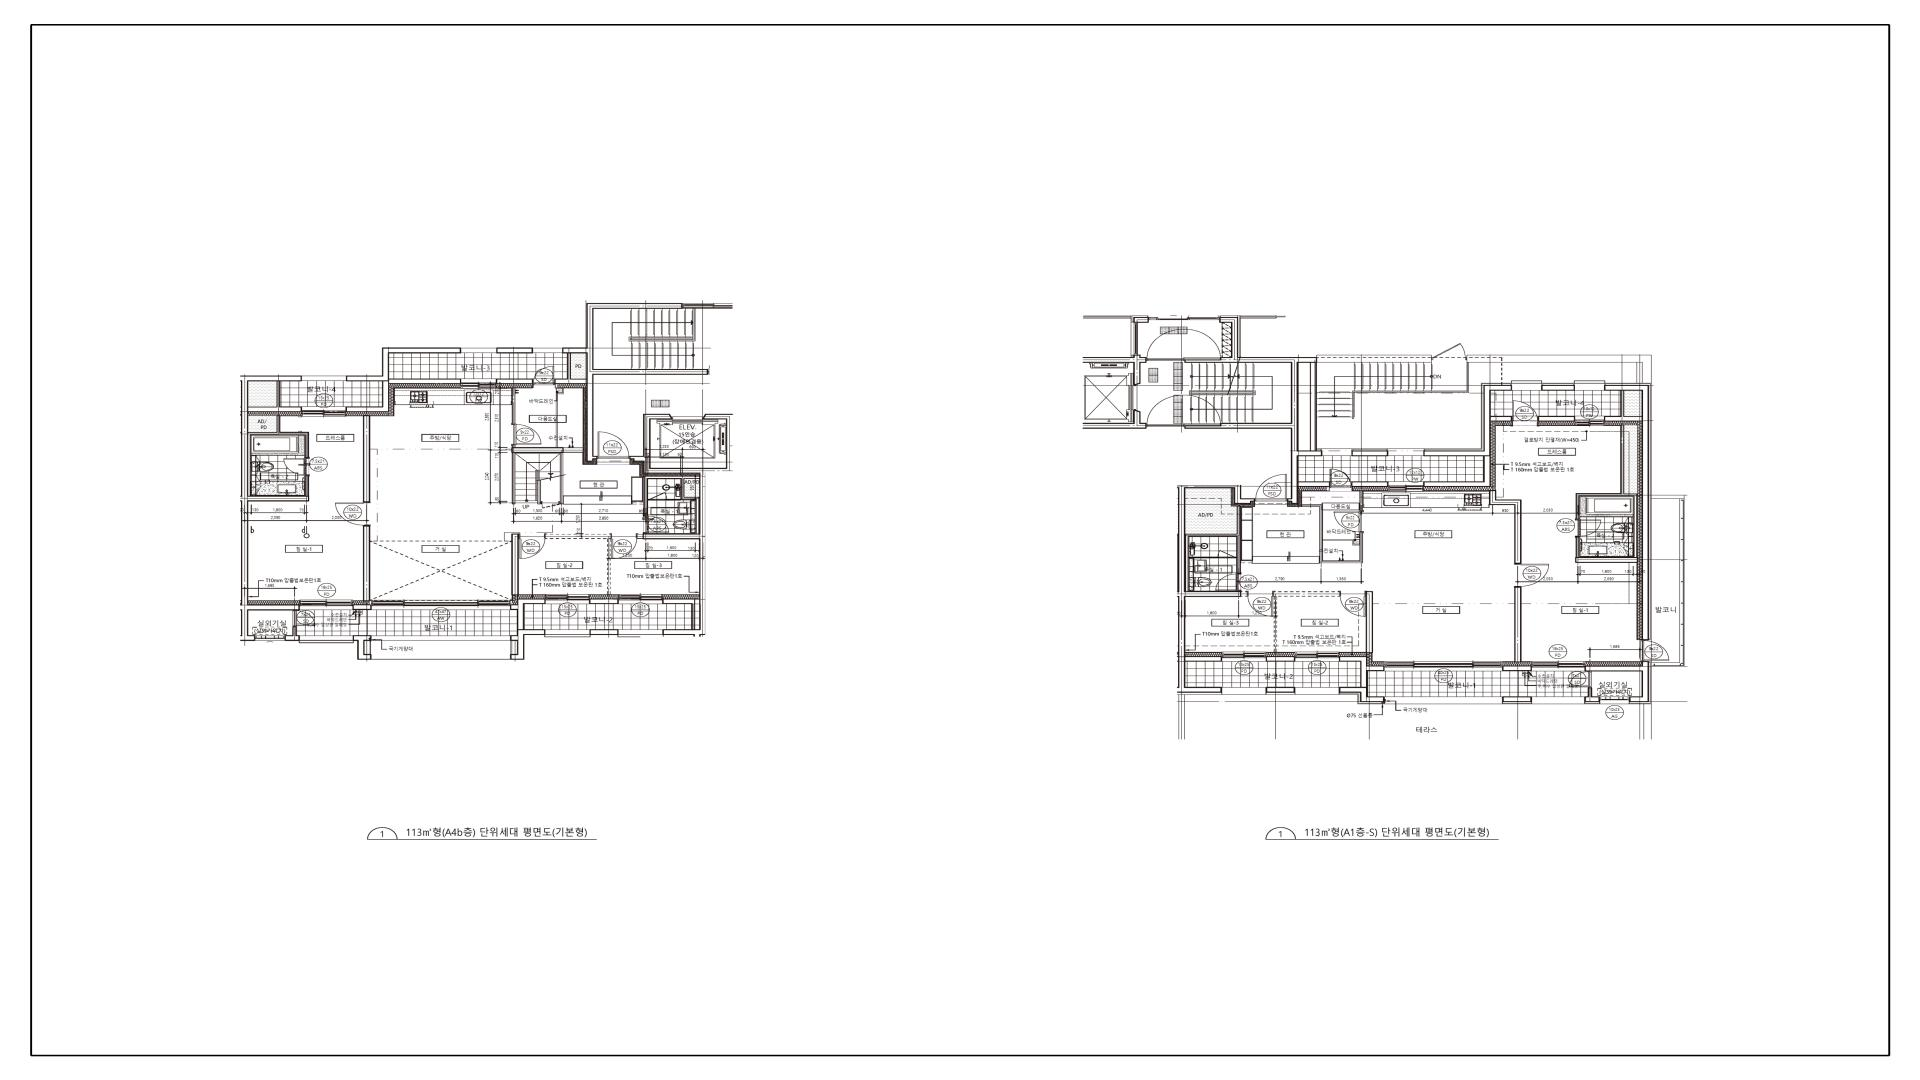door: (1146, 328, 1184, 361), (1147, 396, 1185, 427), (597, 431, 630, 465), (1514, 563, 1549, 588), (1255, 473, 1287, 501), (335, 502, 371, 526), (1247, 591, 1274, 617), (1340, 591, 1366, 617), (611, 534, 637, 559), (520, 534, 546, 559), (1513, 401, 1539, 426), (1640, 640, 1669, 662), (1333, 512, 1364, 533), (512, 425, 542, 444), (1432, 343, 1466, 360), (1575, 518, 1601, 538), (1216, 572, 1242, 591), (644, 516, 670, 534), (284, 458, 310, 475), (1329, 468, 1352, 488), (533, 367, 554, 385), (1569, 671, 1592, 688), (293, 611, 315, 626), (650, 492, 667, 501), (1217, 550, 1237, 558)
wall: (1184, 316, 1432, 504), (562, 303, 708, 462), (630, 414, 733, 636), (241, 376, 309, 641), (1178, 485, 1255, 692), (1605, 385, 1650, 641), (1576, 425, 1638, 563), (1423, 385, 1511, 456), (1651, 495, 1684, 667), (1466, 355, 1652, 384), (248, 415, 309, 496), (1185, 506, 1241, 591), (512, 444, 583, 505), (1274, 592, 1340, 653), (345, 378, 462, 413), (546, 534, 611, 595), (345, 348, 462, 381), (1302, 504, 1364, 563), (644, 476, 699, 534), (1585, 662, 1650, 703), (1489, 491, 1522, 563), (1424, 456, 1491, 487), (1083, 355, 1146, 385), (248, 381, 302, 413), (1340, 657, 1385, 687), (1083, 410, 1147, 429), (1605, 390, 1642, 422), (663, 599, 699, 629), (510, 599, 546, 629), (510, 629, 546, 659), (555, 353, 587, 384), (1338, 687, 1385, 703), (1309, 363, 1317, 451), (363, 415, 371, 502), (363, 526, 371, 601), (1514, 588, 1522, 662), (352, 636, 372, 659), (512, 534, 518, 596), (1366, 591, 1373, 653), (1352, 481, 1389, 488), (496, 347, 533, 353), (1539, 415, 1575, 422), (1585, 687, 1600, 703), (285, 626, 299, 641), (1502, 696, 1532, 703), (1185, 657, 1222, 662), (496, 378, 533, 384), (1352, 451, 1389, 456), (1083, 315, 1131, 319), (589, 629, 618, 636), (1542, 385, 1575, 390), (1298, 481, 1329, 487), (1502, 666, 1532, 671), (1266, 657, 1295, 662), (589, 599, 618, 604), (1266, 687, 1295, 692), (1490, 415, 1513, 422), (512, 388, 516, 425), (1241, 315, 1276, 319), (352, 605, 372, 611), (1133, 316, 1149, 323), (1360, 491, 1364, 512), (305, 475, 309, 496), (637, 534, 642, 539)
window: (372, 600, 510, 611), (1385, 662, 1503, 671), (1385, 696, 1502, 704), (372, 636, 510, 641), (299, 600, 352, 611), (1532, 662, 1585, 671), (1221, 651, 1266, 662), (1295, 651, 1340, 662), (302, 406, 345, 417), (299, 636, 353, 644), (1532, 696, 1585, 704), (618, 595, 663, 604), (546, 595, 589, 604), (1387, 481, 1424, 492), (462, 378, 496, 389), (1222, 687, 1266, 695), (1295, 687, 1338, 695), (1575, 415, 1605, 426), (1511, 381, 1543, 390), (618, 630, 662, 637), (546, 630, 589, 637), (1389, 448, 1424, 456), (1575, 381, 1605, 390), (683, 303, 733, 309), (1600, 696, 1630, 704), (302, 376, 345, 381), (1323, 448, 1352, 456), (1131, 323, 1138, 355), (462, 348, 496, 353), (533, 348, 562, 353), (256, 636, 285, 641)
